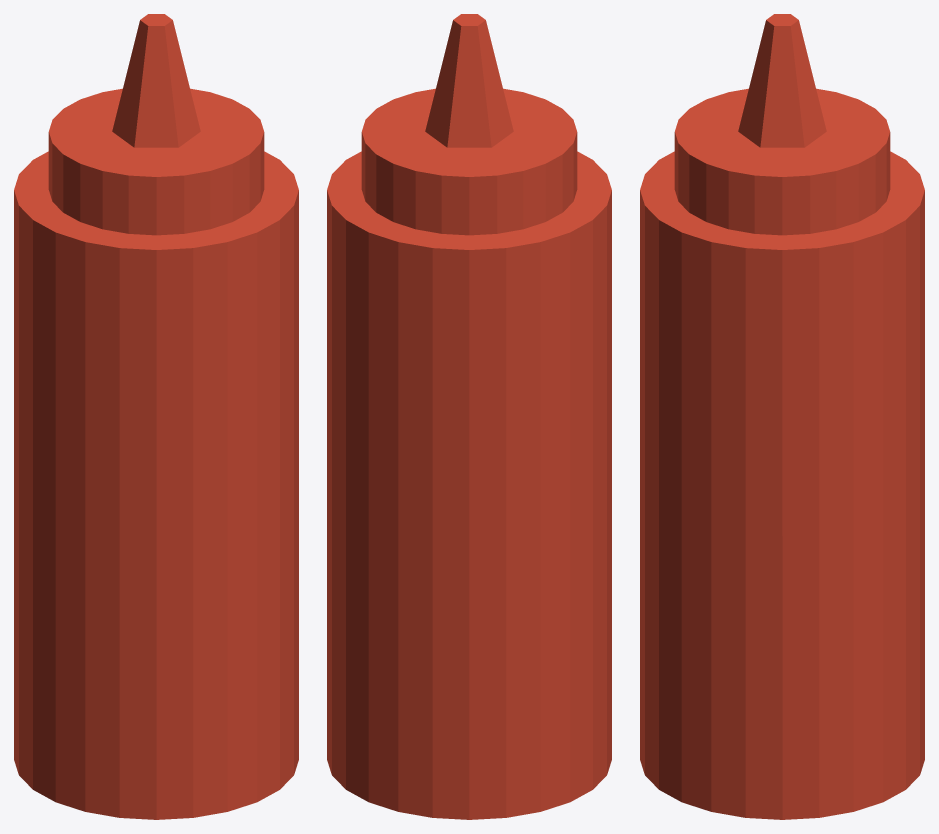
Rendered from Sauce Bottle 1.glb.
3 renders of one model, left to right at view 1: azimuth 30°, elevation 25°; view 2: azimuth 150°, elevation 25°; view 3: azimuth 270°, elevation 25°, orthographic.
Visible parts, largest first — view 1: Sauce Bottle 1; view 2: Sauce Bottle 1; view 3: Sauce Bottle 1.
Part boxes in pixels (x1,y1,x2,y2): Sauce Bottle 1: [14, 14, 298, 819]; Sauce Bottle 1: [327, 14, 611, 819]; Sauce Bottle 1: [640, 14, 924, 819].
Bounding box in the file's own units: 0.3 × 0.8595 × 0.3.
